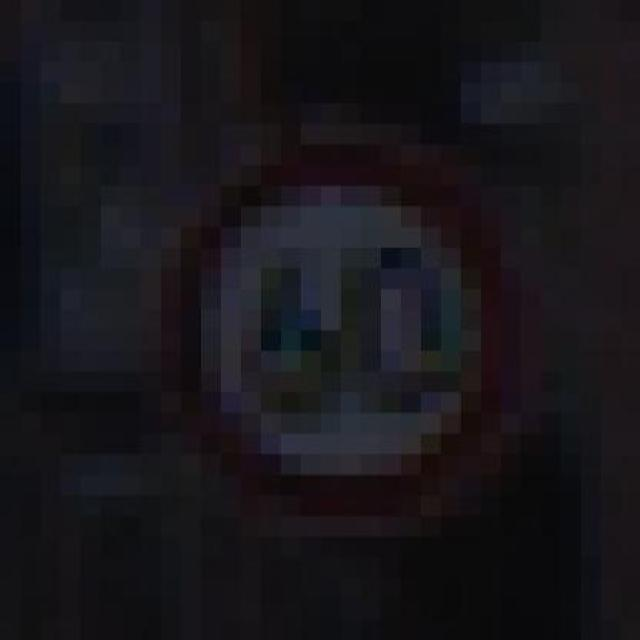forb_speed_over_60: (176, 147, 504, 511)
